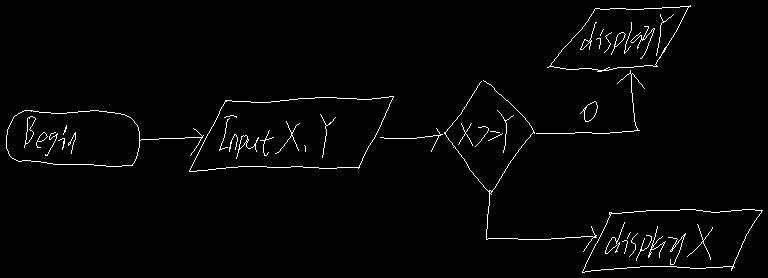arrow: (536, 70, 644, 133), (486, 190, 596, 251), (139, 128, 203, 155), (380, 128, 444, 151)
data: (189, 96, 393, 171), (582, 209, 762, 272), (547, 5, 690, 71)
decision: (444, 80, 534, 194)
terminator: (6, 110, 139, 166)
text: (219, 114, 335, 158), (605, 222, 712, 264), (580, 14, 673, 58), (453, 110, 513, 152), (24, 116, 75, 155), (580, 101, 597, 121)
